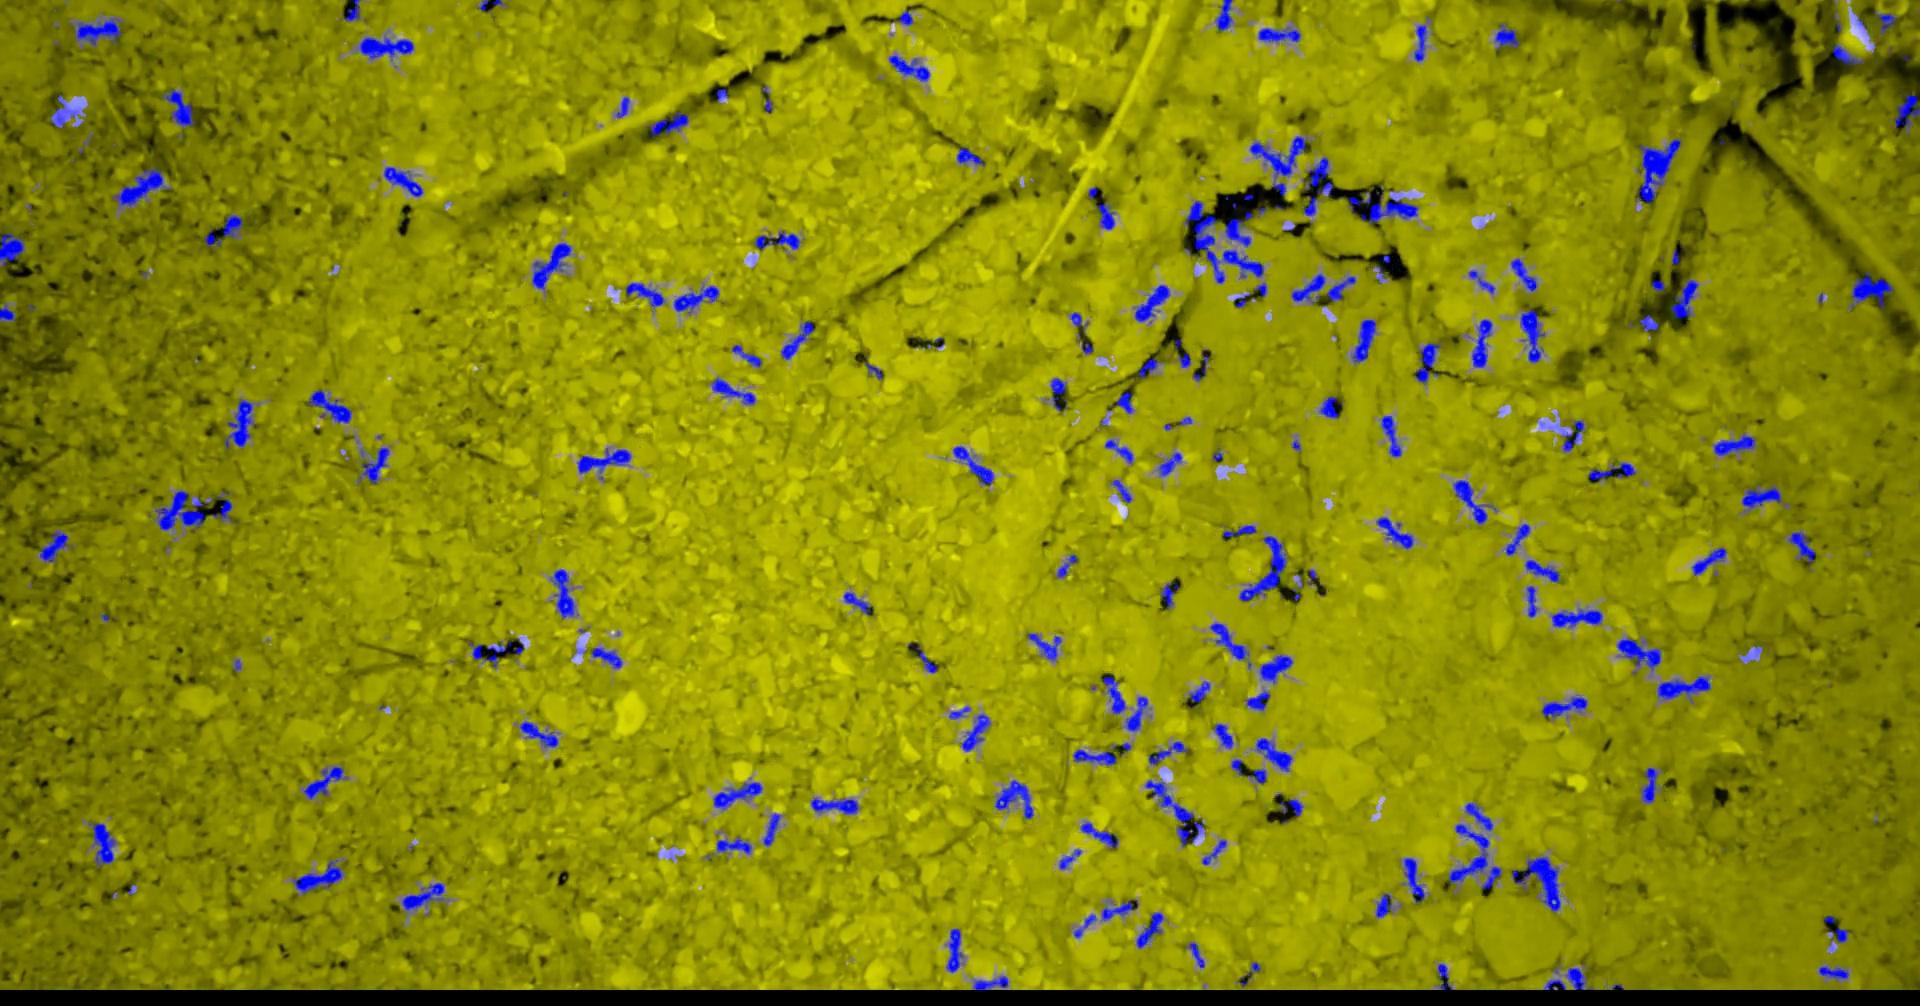ant: (1147, 779, 1206, 846), (1449, 823, 1503, 889), (1241, 535, 1288, 601), (1349, 185, 1418, 224), (156, 489, 212, 531), (114, 166, 173, 206), (1251, 136, 1307, 177), (1454, 479, 1497, 523), (533, 243, 573, 290), (295, 859, 345, 894), (225, 399, 259, 448), (579, 447, 632, 479), (954, 446, 996, 485), (1851, 271, 1895, 309), (996, 779, 1035, 818), (309, 389, 353, 423), (1658, 676, 1712, 702), (74, 17, 124, 44), (1618, 638, 1662, 669), (1211, 622, 1250, 659), (305, 765, 345, 799), (715, 781, 764, 809), (782, 320, 817, 359), (90, 821, 118, 868), (163, 88, 196, 127), (1521, 309, 1545, 362), (1137, 285, 1171, 321), (361, 36, 415, 58), (676, 285, 720, 312), (712, 377, 757, 404), (469, 640, 513, 667), (1257, 738, 1293, 771), (403, 882, 444, 909), (552, 569, 577, 617), (385, 166, 424, 196), (1378, 517, 1415, 547), (1416, 342, 1443, 384), (963, 713, 992, 751), (1672, 278, 1700, 318), (890, 55, 931, 81), (1307, 158, 1335, 196), (521, 720, 560, 747), (1473, 319, 1495, 367), (1352, 319, 1377, 362), (362, 447, 391, 483), (1789, 530, 1817, 567), (1693, 547, 1730, 575), (651, 111, 690, 137), (1293, 273, 1326, 304), (51, 94, 80, 128), (1895, 94, 1920, 133), (1743, 485, 1783, 511), (1137, 912, 1164, 948), (1404, 857, 1426, 903), (627, 282, 665, 307), (41, 531, 72, 561), (1553, 608, 1604, 627), (1261, 654, 1294, 683), (1029, 633, 1063, 661), (1082, 822, 1119, 847), (1543, 696, 1589, 716), (1103, 674, 1128, 713), (1716, 433, 1757, 455), (1150, 741, 1190, 763), (909, 641, 938, 672), (1382, 415, 1403, 456), (1589, 462, 1637, 480), (811, 796, 860, 814), (1512, 258, 1538, 291), (1, 231, 25, 265), (1465, 801, 1495, 829), (756, 231, 801, 249), (1526, 559, 1562, 582), (1225, 217, 1252, 246), (947, 929, 965, 972), (1507, 523, 1531, 555), (1328, 276, 1357, 301), (1128, 696, 1149, 730), (844, 591, 875, 615), (1103, 899, 1139, 920), (733, 344, 763, 367), (1049, 377, 1069, 412), (1834, 43, 1865, 65), (592, 647, 623, 668), (1496, 23, 1521, 50), (1106, 439, 1134, 464), (211, 499, 239, 523), (1074, 749, 1117, 765), (1567, 967, 1595, 989), (1564, 420, 1585, 451), (1203, 840, 1228, 864), (1258, 27, 1302, 41), (1096, 199, 1116, 229), (717, 837, 753, 854), (1470, 271, 1496, 293), (764, 813, 782, 845), (1876, 11, 1898, 36), (1159, 452, 1183, 475), (1238, 962, 1262, 984), (1070, 312, 1090, 340), (1643, 767, 1658, 801), (1076, 915, 1098, 937), (1187, 681, 1211, 702), (1247, 688, 1271, 710), (1214, 723, 1234, 748), (1415, 24, 1429, 61), (1217, 0, 1233, 30), (1194, 351, 1210, 381), (957, 147, 985, 165), (1162, 580, 1180, 608), (1058, 554, 1079, 577), (223, 213, 244, 238), (975, 976, 1010, 989), (1139, 358, 1162, 379), (1112, 479, 1133, 502), (1060, 848, 1083, 869), (1187, 942, 1206, 967), (1321, 395, 1340, 418), (1820, 965, 1850, 979), (1224, 525, 1257, 537), (1279, 799, 1304, 815), (343, 0, 362, 22), (1439, 963, 1454, 989), (1377, 893, 1393, 917), (1117, 391, 1135, 413), (867, 356, 884, 379), (1641, 312, 1660, 332), (204, 229, 223, 246), (1528, 586, 1538, 617), (480, 0, 507, 11), (1236, 293, 1257, 307), (1250, 768, 1269, 784), (1831, 927, 1850, 942), (617, 97, 631, 117), (1, 304, 17, 321), (1304, 196, 1318, 215), (899, 9, 914, 25), (950, 706, 971, 718), (1545, 979, 1567, 989), (1272, 182, 1288, 196), (1180, 352, 1192, 367), (1233, 760, 1244, 775), (1653, 279, 1667, 291), (717, 88, 729, 100)
